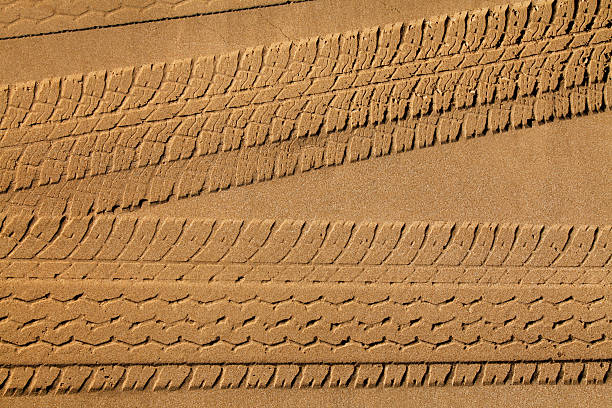vehicle_track: (12, 0, 601, 215), (7, 213, 608, 389)
